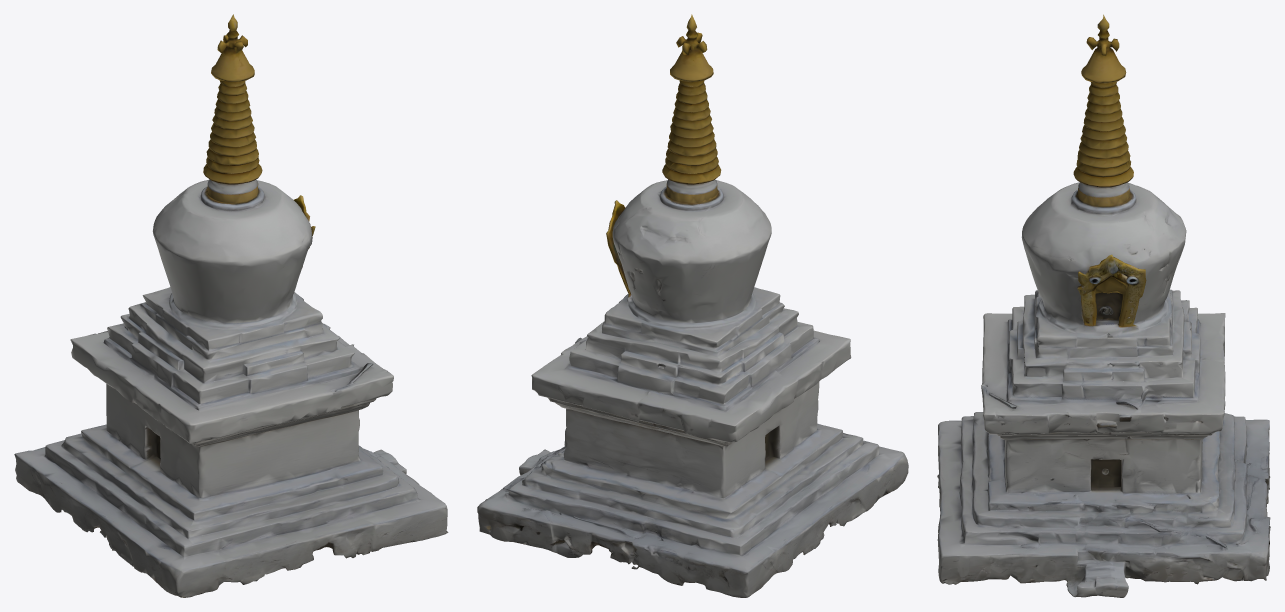
The model's file is chorten.glb.
3 views of the same model, side by side, from view 1: azimuth 30°, elevation 25°; view 2: azimuth 150°, elevation 25°; view 3: azimuth 270°, elevation 25° (orthographic).
Parts seen in each view (by area): view 1: tripo_node_bc97826b-cdf6-4d50-85b3-5302d9169177; view 2: tripo_node_bc97826b-cdf6-4d50-85b3-5302d9169177; view 3: tripo_node_bc97826b-cdf6-4d50-85b3-5302d9169177.
Part boxes in pixels (x1=…): tripo_node_bc97826b-cdf6-4d50-85b3-5302d9169177: x1=14, y1=14, x2=448, y2=597; tripo_node_bc97826b-cdf6-4d50-85b3-5302d9169177: x1=477, y1=14, x2=908, y2=597; tripo_node_bc97826b-cdf6-4d50-85b3-5302d9169177: x1=937, y1=14, x2=1270, y2=597.
Size of the model in its own units: 2.84 by 4.5 by 2.69.
1 material, 1 textured.
